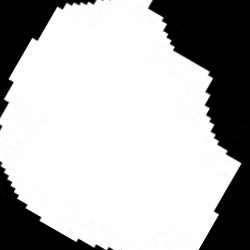spot: (2, 2, 242, 248)
